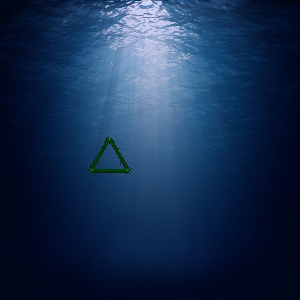triangle: (85, 132, 134, 176)
